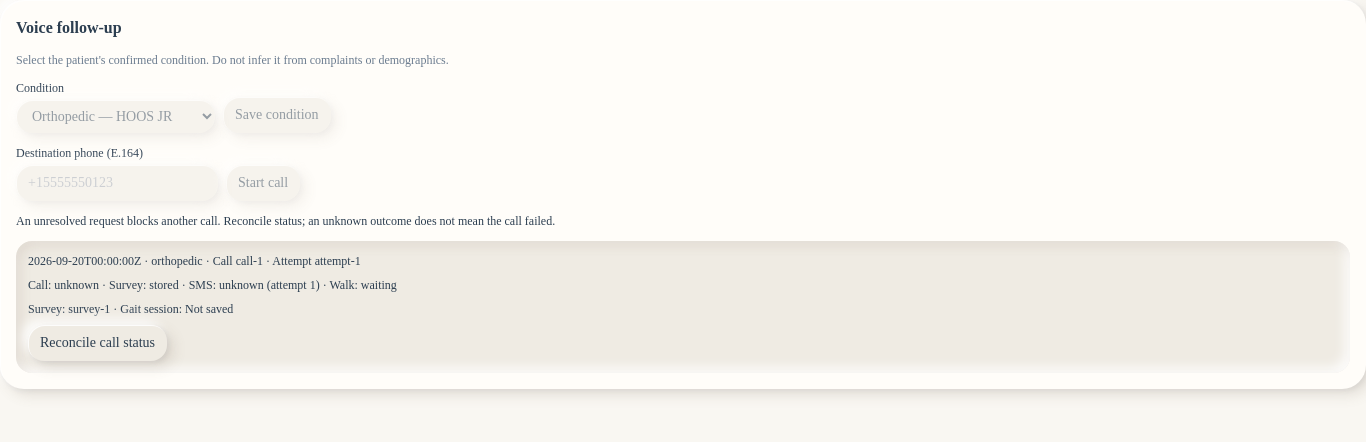
Test: clinician call controls › reconciles unknown status without redialing or regressing a newer record
The width and height of the screenshot is (1366, 442).
Expected: the text "Call: unknown" is shown, [28, 278, 397, 292]
Click the button "Reconcile call status".
click(98, 343)  # box [28, 325, 167, 361]
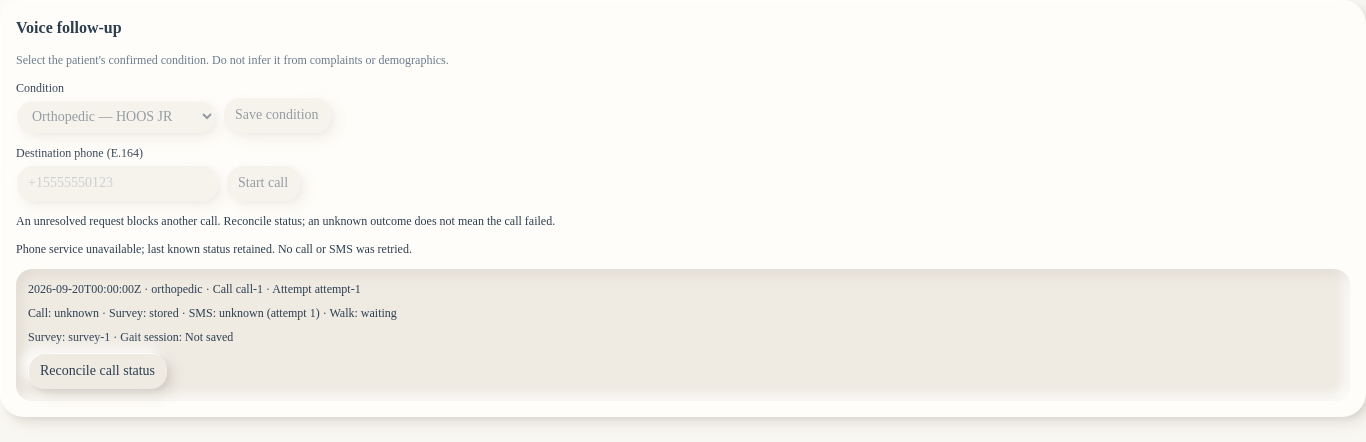
Expected: the text "Phone service unavailable" is shown, [16, 242, 412, 256]
